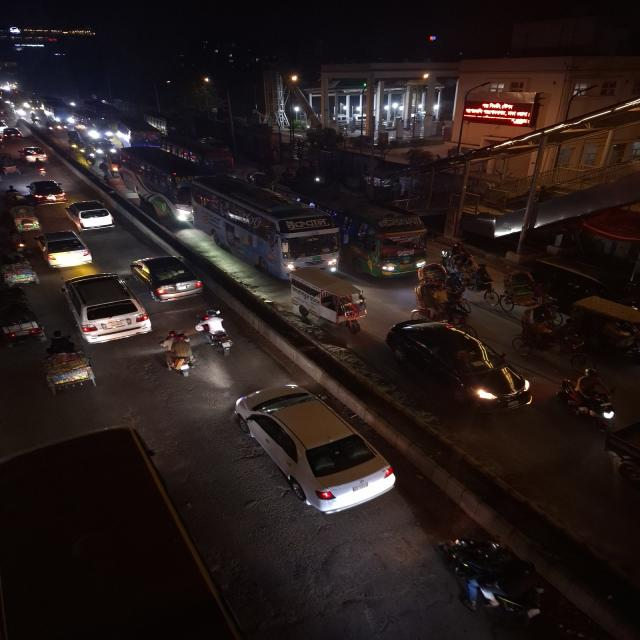bus: (188, 173, 343, 281), (355, 202, 432, 276), (127, 155, 195, 221)
car: (225, 378, 402, 518), (381, 317, 534, 417), (58, 271, 155, 346), (128, 252, 215, 305), (35, 228, 94, 270), (65, 198, 119, 232), (25, 179, 72, 205)
motorcycle: (435, 531, 561, 632), (556, 364, 619, 439), (195, 308, 243, 358), (160, 329, 197, 379)
rickshaw: (287, 265, 371, 338), (34, 328, 100, 398), (499, 268, 565, 325), (451, 250, 500, 308), (411, 280, 471, 322), (2, 250, 35, 292)
